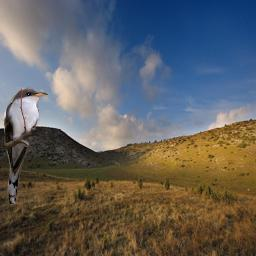Cuckoo: (3, 87, 48, 204)
